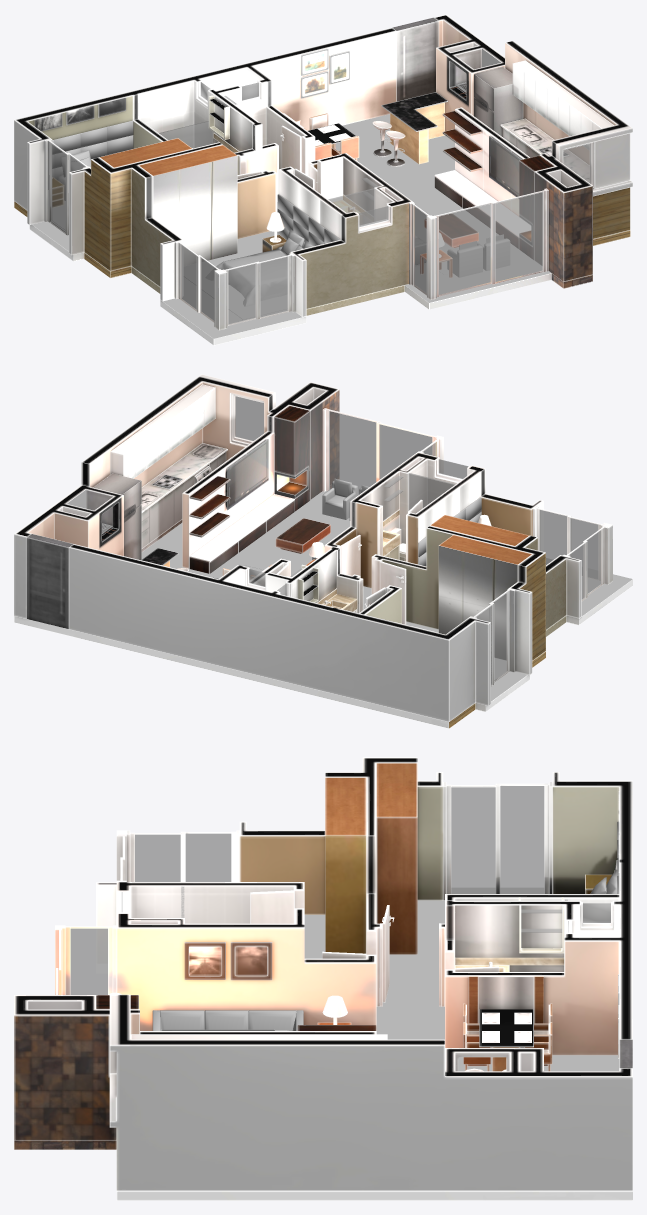
3 renders of one model, top to bottom at view 1: azimuth 30°, elevation 25°; view 2: azimuth 150°, elevation 25°; view 3: azimuth 270°, elevation 25°, orthographic. The views are drawn at different scales.
Parts seen in each view (by area): view 1: bake_2_paredes, bake_2_madeira, bake_2_metal, vidro, bake_2_tecidos, bake_2_piso, bake_2_baixo; view 2: bake_2_paredes, bake_2_madeira, bake_2_metal, vidro, bake_2_baixo, bake_2_piso, bake_2_tecidos; view 3: bake_2_paredes, bake_2_madeira, vidro, bake_2_metal, bake_2_piso, bake_2_baixo, bake_2_tecidos.
Boxes of the visible parts, x1,y1,x2,y2 form: bake_2_paredes: (14, 14, 632, 330); bake_2_madeira: (34, 17, 613, 277); bake_2_metal: (44, 67, 594, 328); vidro: (50, 82, 590, 324); bake_2_tecidos: (52, 120, 510, 319); bake_2_piso: (32, 114, 551, 338); bake_2_baixo: (14, 201, 630, 345); bake_2_paredes: (14, 374, 612, 721); bake_2_madeira: (26, 384, 531, 632); bake_2_metal: (93, 393, 609, 686); vidro: (235, 396, 601, 685); bake_2_baixo: (14, 485, 632, 728); bake_2_piso: (141, 491, 632, 701); bake_2_tecidos: (243, 478, 500, 679); bake_2_paredes: (14, 757, 632, 1190); bake_2_madeira: (96, 763, 632, 1071); vidro: (70, 786, 610, 994); bake_2_metal: (55, 782, 614, 1071); bake_2_piso: (304, 888, 619, 1071); bake_2_baixo: (14, 964, 632, 1200); bake_2_tecidos: (152, 821, 619, 1030).
Bounding box in the file's own units: 1034 × 245 × 886.
